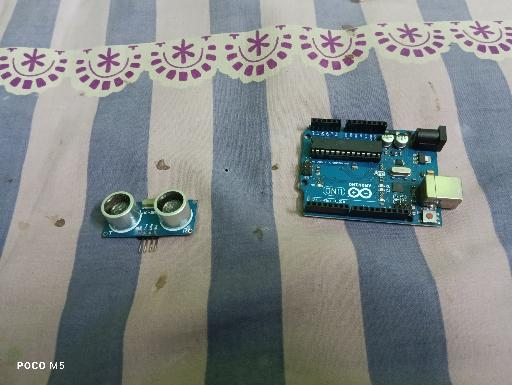Arduino: (298, 117, 463, 228)
sensor: (100, 189, 199, 254)
